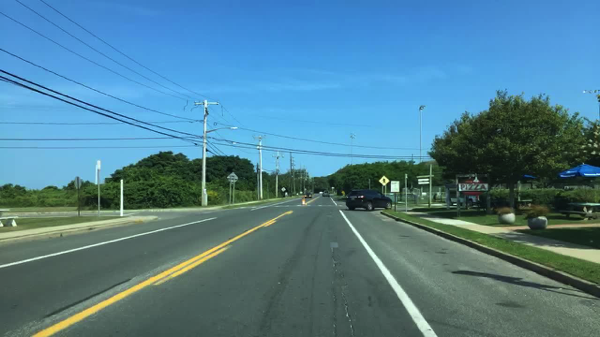car: (343, 188, 393, 211), (323, 189, 331, 197), (304, 191, 310, 198)
traffic sign: (389, 181, 400, 193), (227, 173, 237, 184), (379, 176, 390, 186), (280, 188, 286, 193)
truck: (447, 190, 478, 207)
